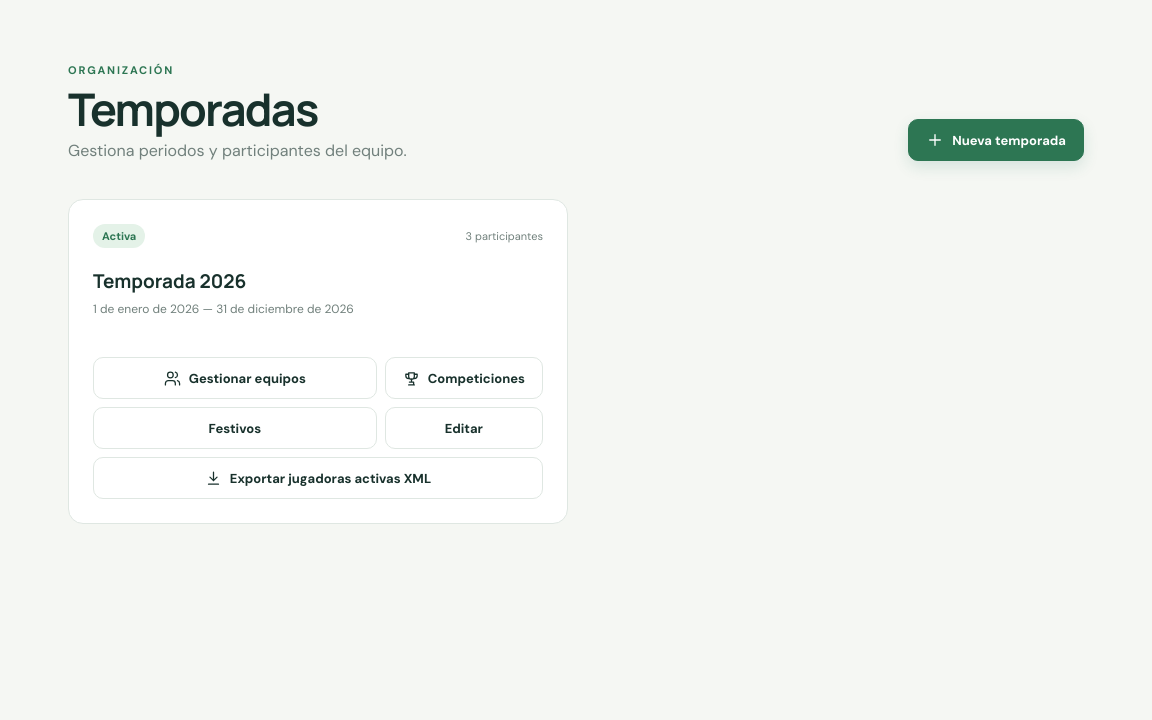
Test: SeasonsView › groups assigned rosters by principal without double counting versatile players or changing counts on search
The image size is (1152, 720).
Click the button "Gestionar equipos" at (235, 378), box x1=93 y1=357 x2=377 y2=399
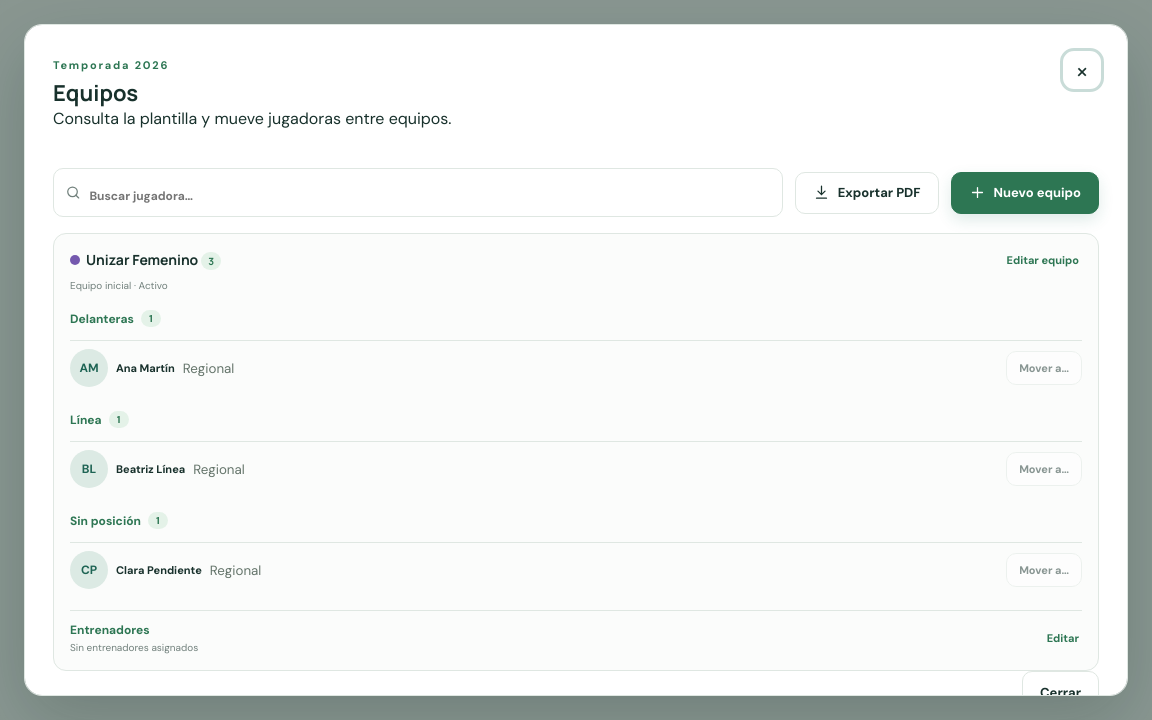
Now the heading "Delanteras 1" is shown, box x1=70 y1=310 x2=161 y2=327
Now the heading "Línea 1" is shown, box x1=70 y1=411 x2=129 y2=428
Now the heading "Sin posición 1" is shown, box x1=70 y1=512 x2=168 y2=529
Type "Beatriz" into the search field at (430, 196), box x1=89 y1=176 x2=771 y2=216
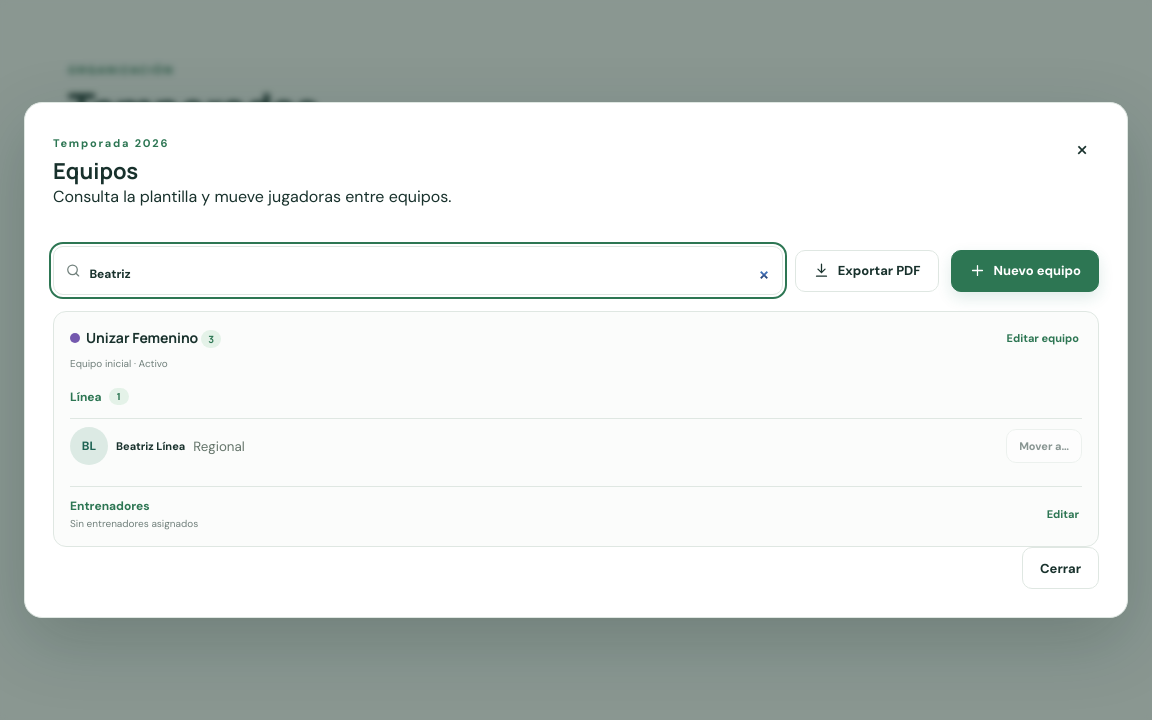
Now the heading "Línea 1" is shown, box x1=70 y1=388 x2=129 y2=405
Now the text "Ana Martín" is gone
